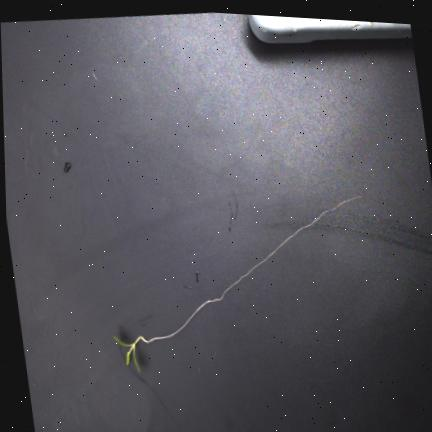leaf1: (113, 336, 131, 346)
leaf2: (126, 350, 130, 365)
leaf3: (132, 347, 139, 373)
root: (146, 195, 360, 343)
stem: (133, 334, 146, 344)
